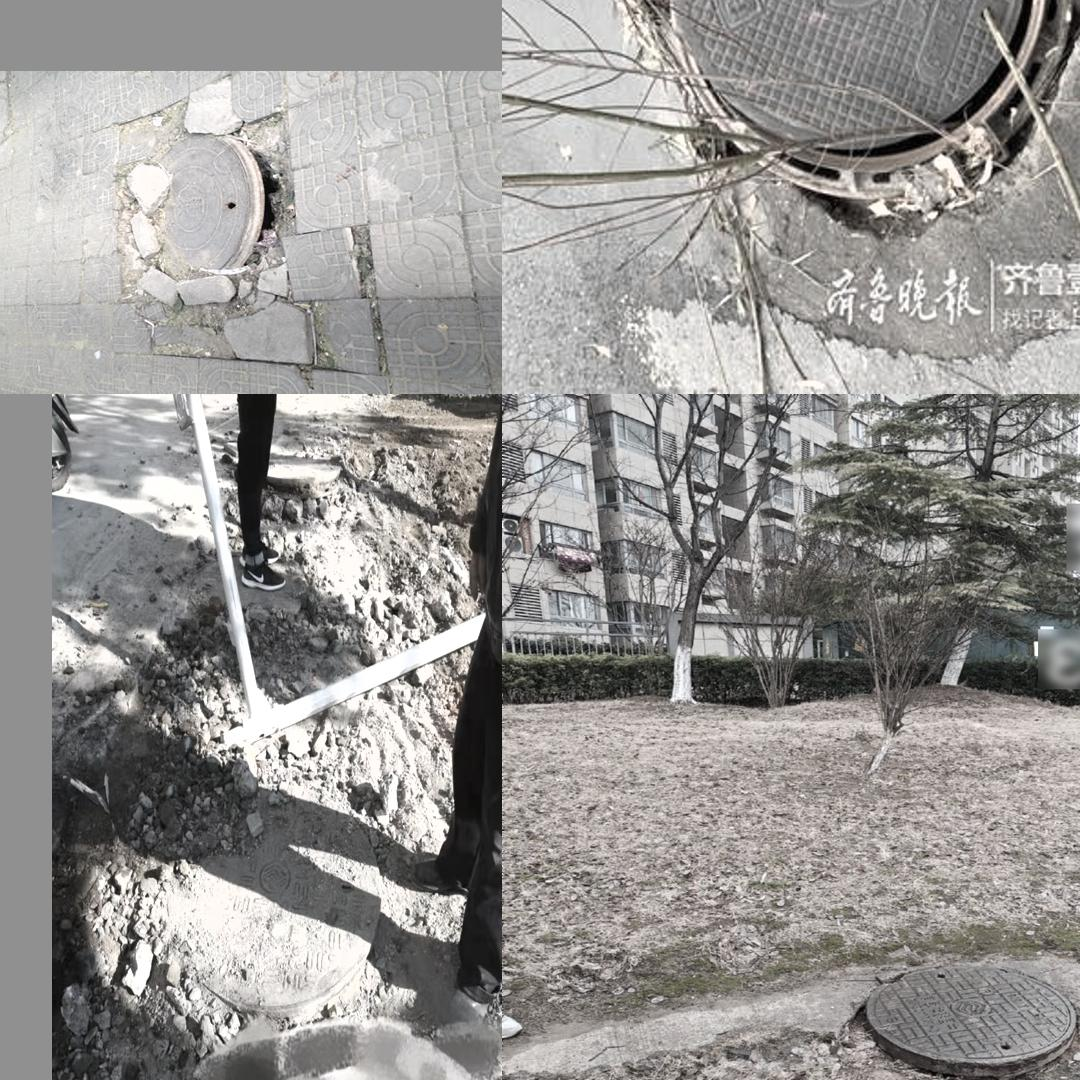circle: (571, 0, 1080, 344), (126, 779, 409, 1061), (112, 112, 315, 367), (855, 960, 1080, 1076)
